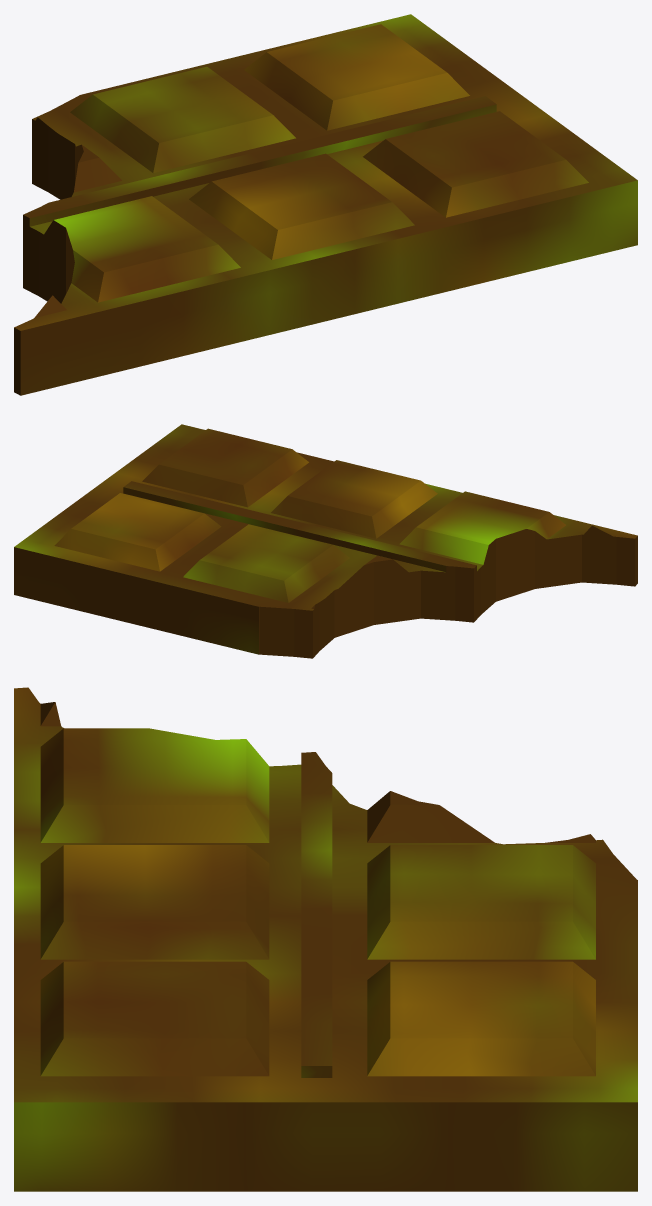
The model's file is chocolate.fbx.
The picture shows the model from 3 angles, top to bottom: view 1: azimuth 30°, elevation 25°; view 2: azimuth 150°, elevation 25°; view 3: azimuth 270°, elevation 25°; orthographic projection. The views are drawn at different scales.
Parts seen in each view (by area): view 1: CoockieMan.003; view 2: CoockieMan.003; view 3: CoockieMan.003.
Boxes of the visible parts, <box> form: CoockieMan.003: <box>14,14,637,395</box>; CoockieMan.003: <box>14,424,637,658</box>; CoockieMan.003: <box>14,687,637,1191</box>.
Bounding box in the file's own units: 194 × 25.54 × 123.
1 material, 1 textured.
